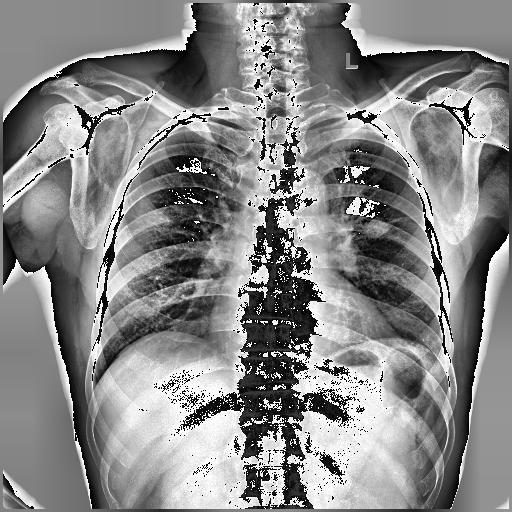0- Aortic enlargement: (280, 167, 330, 234), (279, 168, 327, 220), (284, 172, 326, 220)
11- Pleural thickening: (360, 118, 388, 138), (194, 112, 246, 119)
13- Pulmonary fibrosis: (387, 214, 422, 224), (392, 216, 418, 222), (394, 215, 420, 220)
3- Cardiomegaly: (208, 296, 400, 355)
8- Nodule-Mass: (362, 216, 390, 240), (360, 218, 390, 238), (367, 218, 389, 238)
